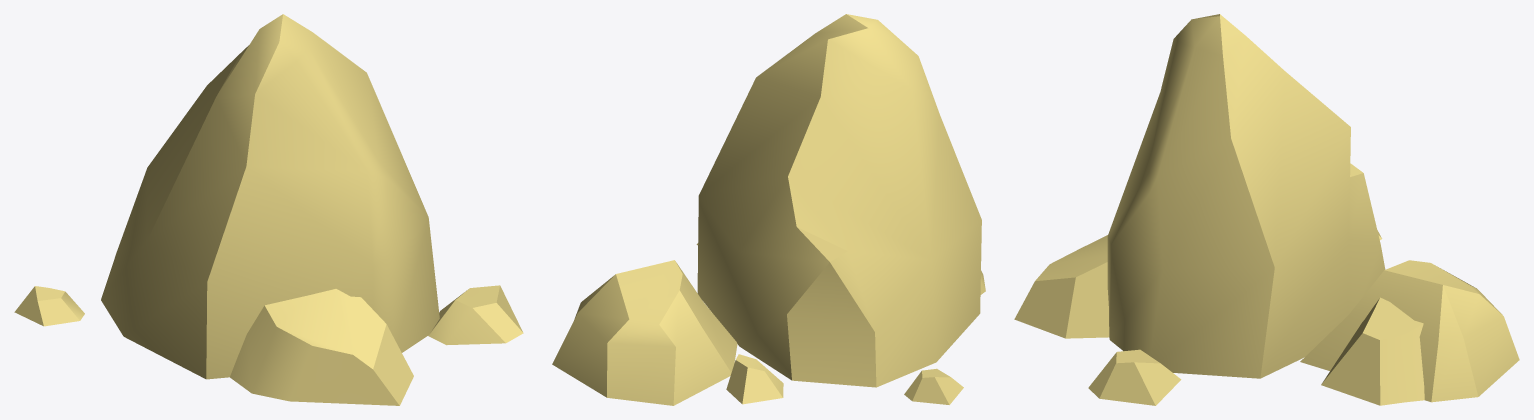
File: dixing9.FBX
3 renders of one model, left to right at view 1: azimuth 30°, elevation 25°; view 2: azimuth 150°, elevation 25°; view 3: azimuth 270°, elevation 25°, orthographic. The views are drawn at different scales.
Visible parts, largest first — view 1: Rocks02; view 2: Rocks02; view 3: Rocks02.
Boxes of the visible parts, left/top/right/bottom form: Rocks02: left=14, top=14, right=523, bottom=405; Rocks02: left=552, top=14, right=985, bottom=405; Rocks02: left=1014, top=14, right=1519, bottom=405.
Bounding box in the file's own units: 4.43 × 3.5 × 5.31.
